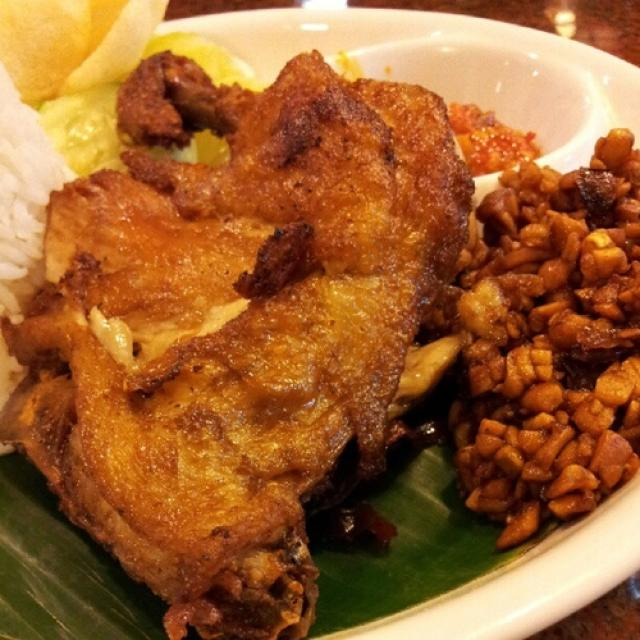鸡肉料理 含炸鸡: (27, 32, 603, 621)
